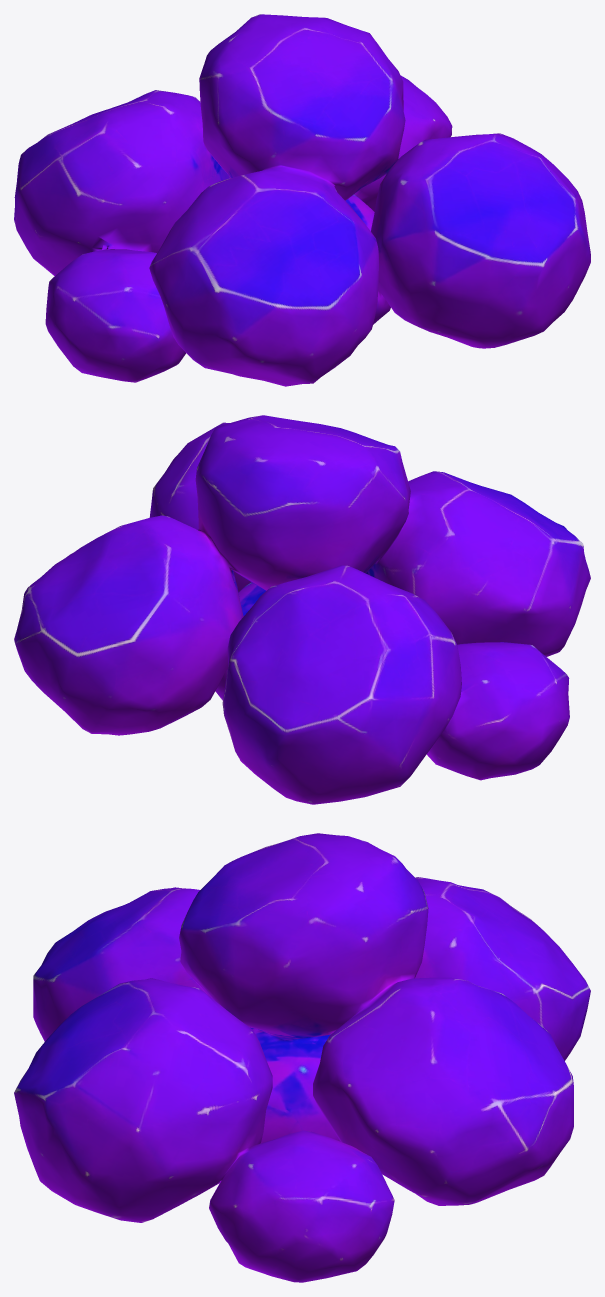
Rendered from amethyst_gem_pile.obj.
3 renders of one model, top to bottom at view 1: azimuth 30°, elevation 25°; view 2: azimuth 150°, elevation 25°; view 3: azimuth 270°, elevation 25°, orthographic. The views are drawn at different scales.
Parts seen in each view (by area): view 1: amethyst_gem_pile; view 2: amethyst_gem_pile; view 3: amethyst_gem_pile.
Part boxes in pixels (x1,y1,x2,y2): amethyst_gem_pile: [14, 14, 590, 386]; amethyst_gem_pile: [14, 415, 590, 804]; amethyst_gem_pile: [14, 833, 590, 1282].
Bounding box in the file's own units: 1.91 × 1.07 × 1.74.
1 material, 1 textured.
